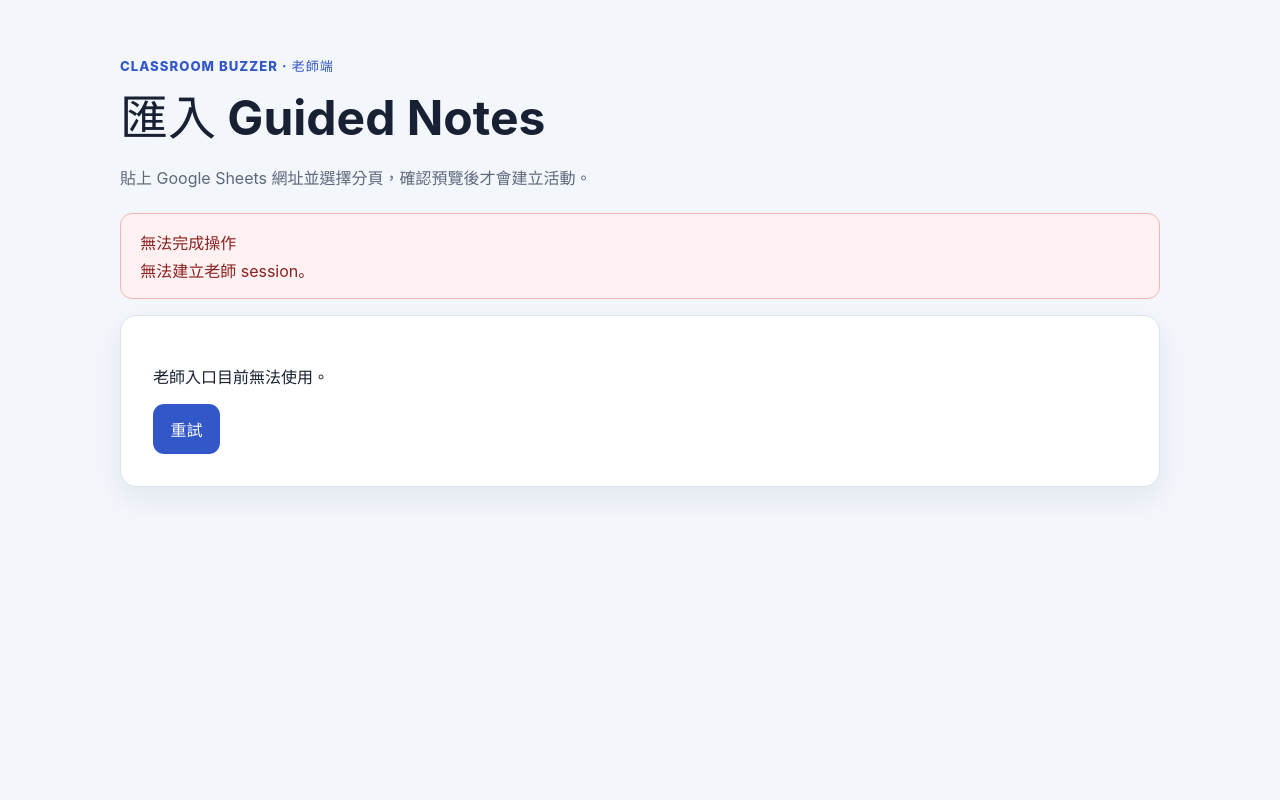
老師 Guided Notes 匯入介面 › 直接 URL 建立老師 session 失敗時提供重試且不讀取 snapshot
This screenshot has width=1280, height=800.
Expected: the message shows "無法建立老師 session。", [140, 261, 314, 281]
Click the button "重試" at (187, 429), box [153, 404, 220, 454]
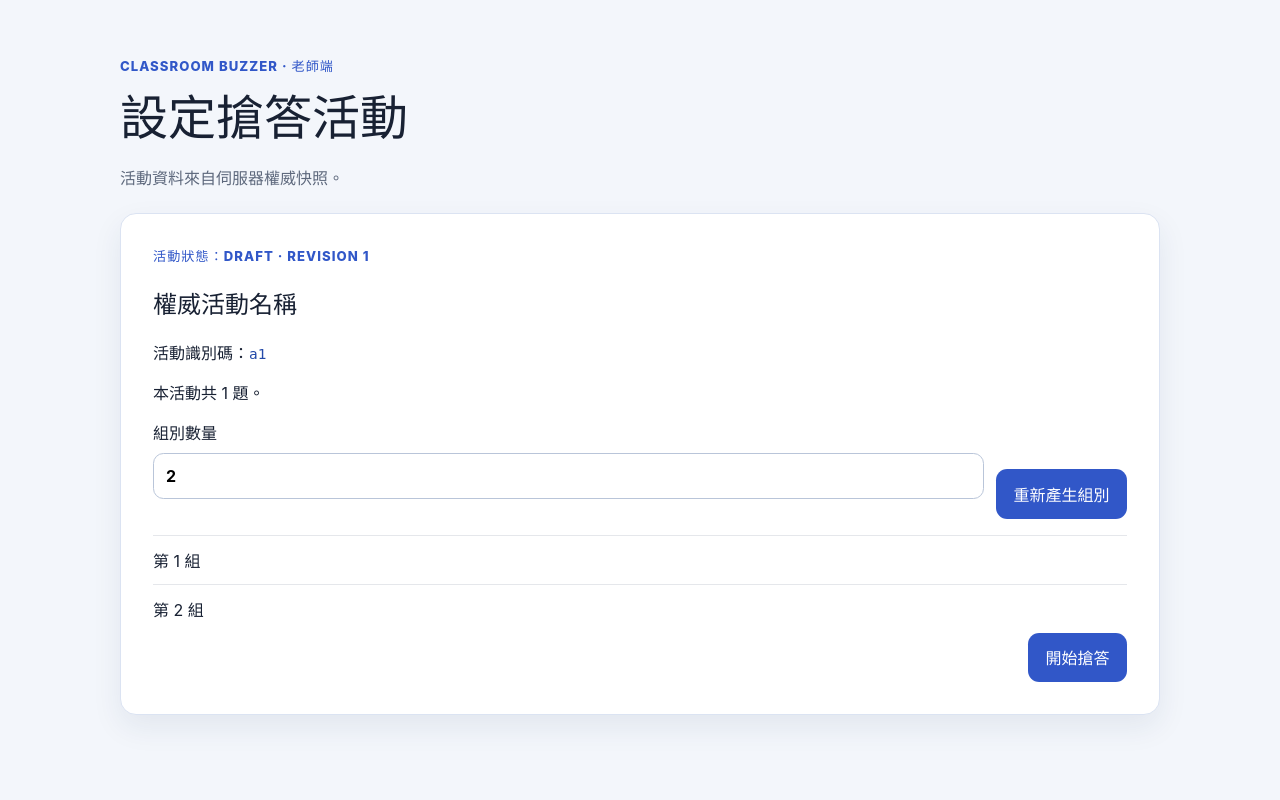
Now the heading "設定搶答活動" is shown, box [120, 88, 408, 147]
